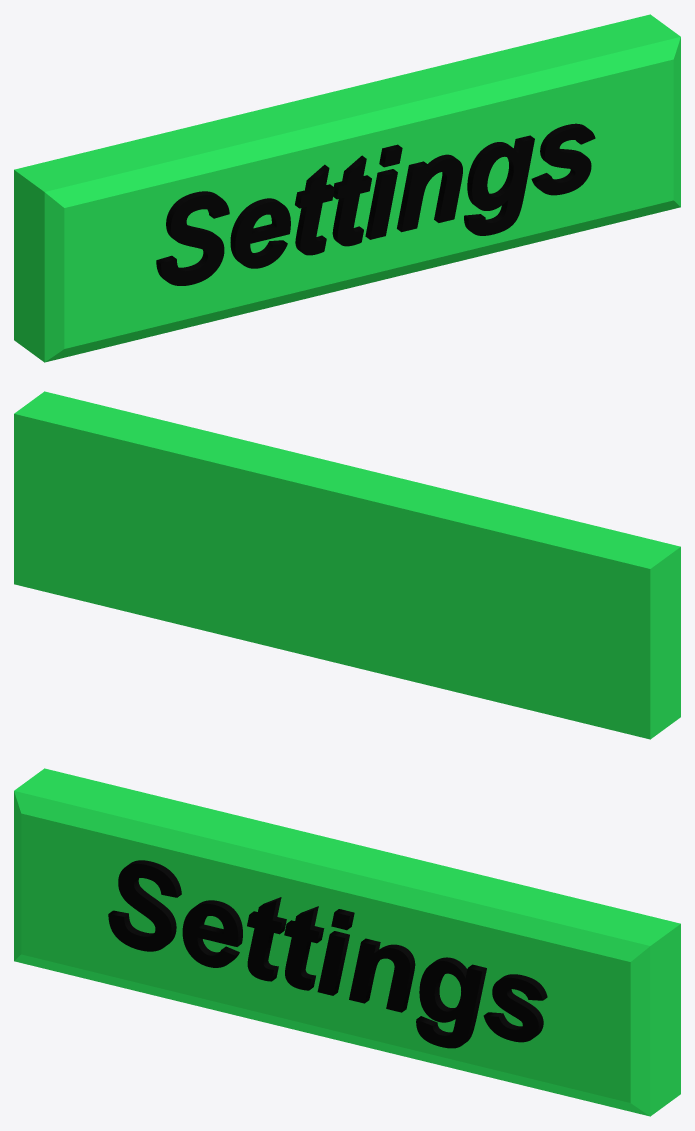
File: Settings_button.fbx
The picture shows the model from 3 angles, top to bottom: view 1: azimuth 30°, elevation 25°; view 2: azimuth 150°, elevation 25°; view 3: azimuth 330°, elevation 25°; orthographic projection.
Visible parts, largest first — view 1: Settings_button; view 2: Settings_button; view 3: Settings_button.
Boxes of the visible parts, x1,y1,x2,y2 form: Settings_button: (14, 14, 680, 362); Settings_button: (14, 391, 680, 739); Settings_button: (14, 768, 680, 1116).
Bounding box in the file's own units: 735 × 188 × 83.27.
